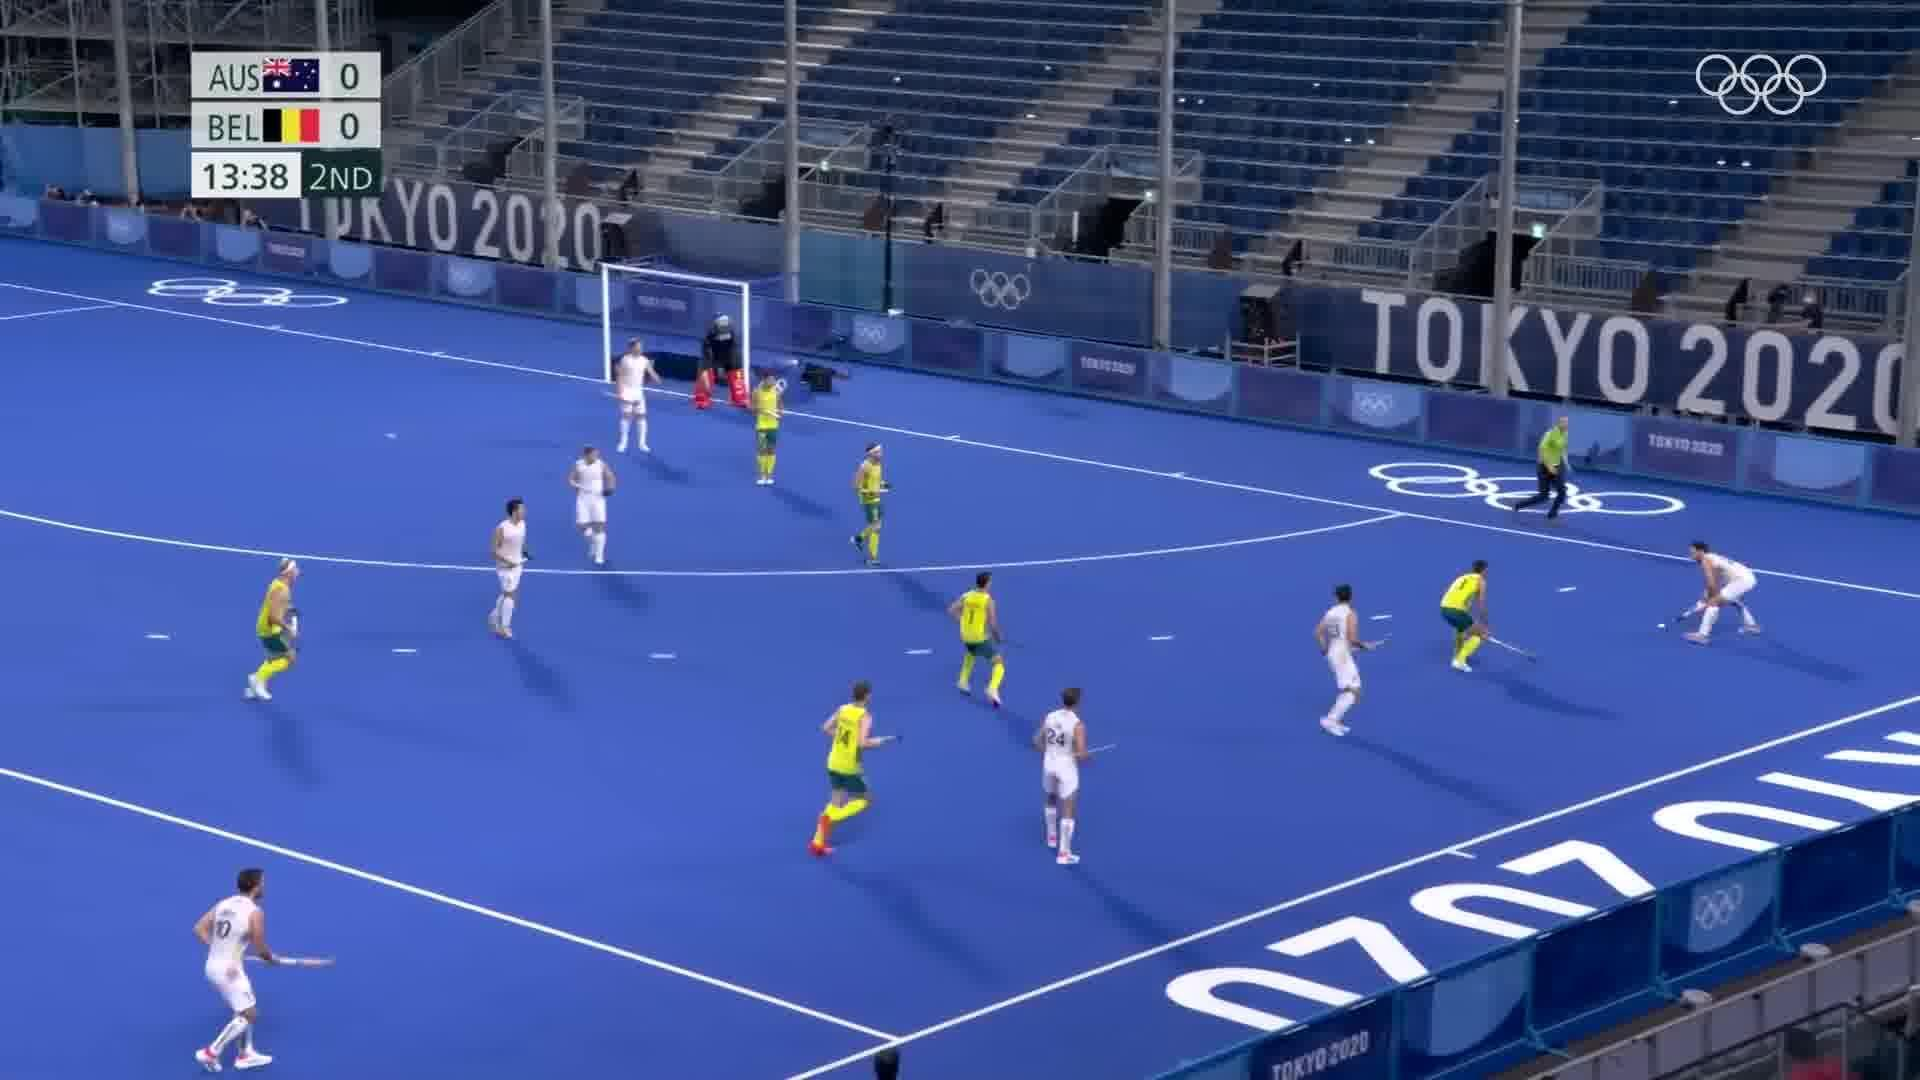ball: (1650, 617, 1672, 633)
